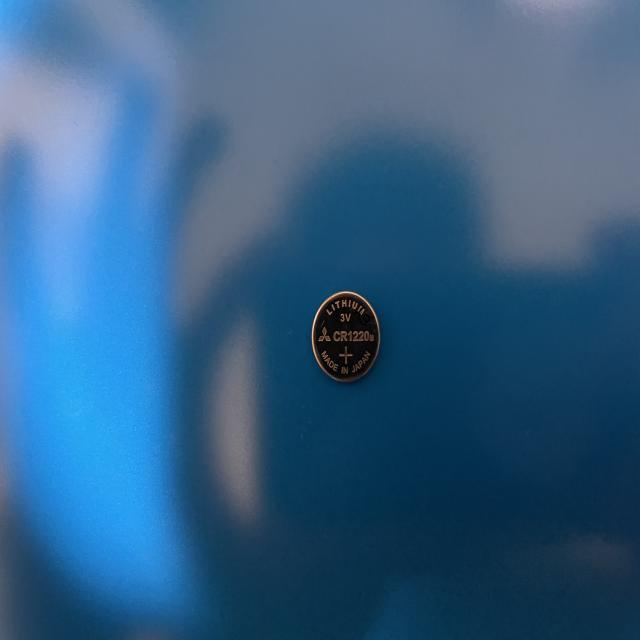COIN: (312, 292, 379, 384)
